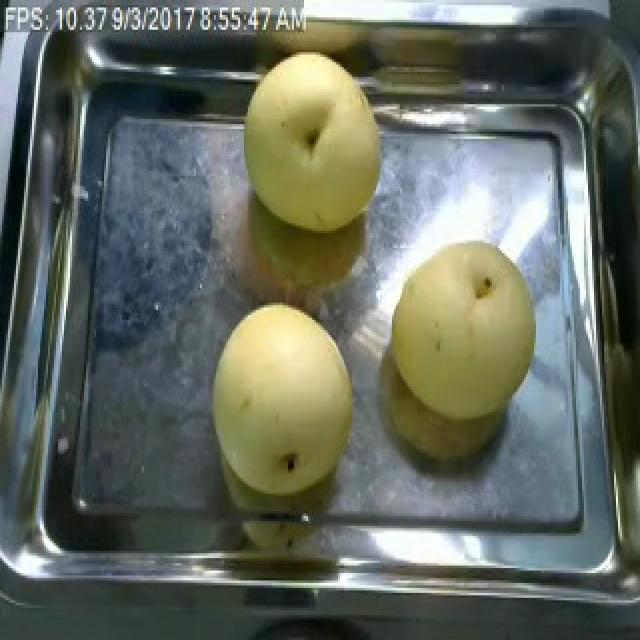Fruit: (378, 228, 546, 432), (204, 295, 364, 501), (232, 42, 394, 243)
